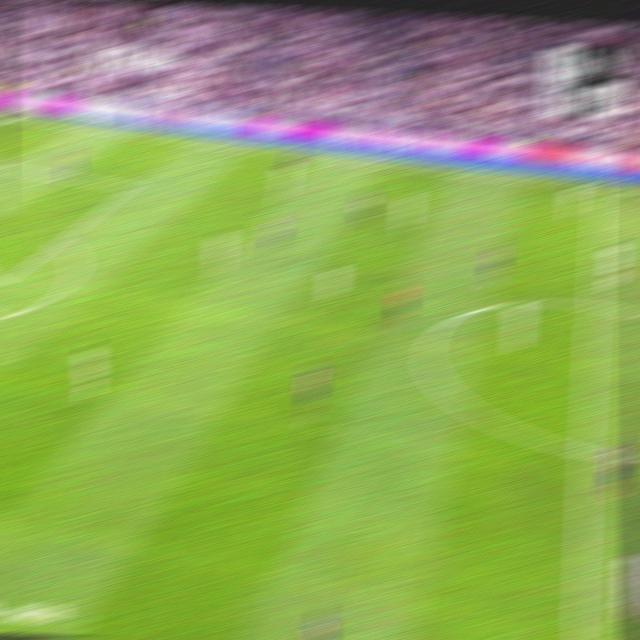bigarea_top_inner: (122, 177, 140, 194)
corner: (8, 110, 28, 121)
halfcircle_bottom: (573, 435, 597, 465)
halfcircle_top: (580, 289, 605, 319)
midline_top_intersection: (590, 181, 607, 193)
top_arc_area_intersection: (51, 232, 69, 247)
